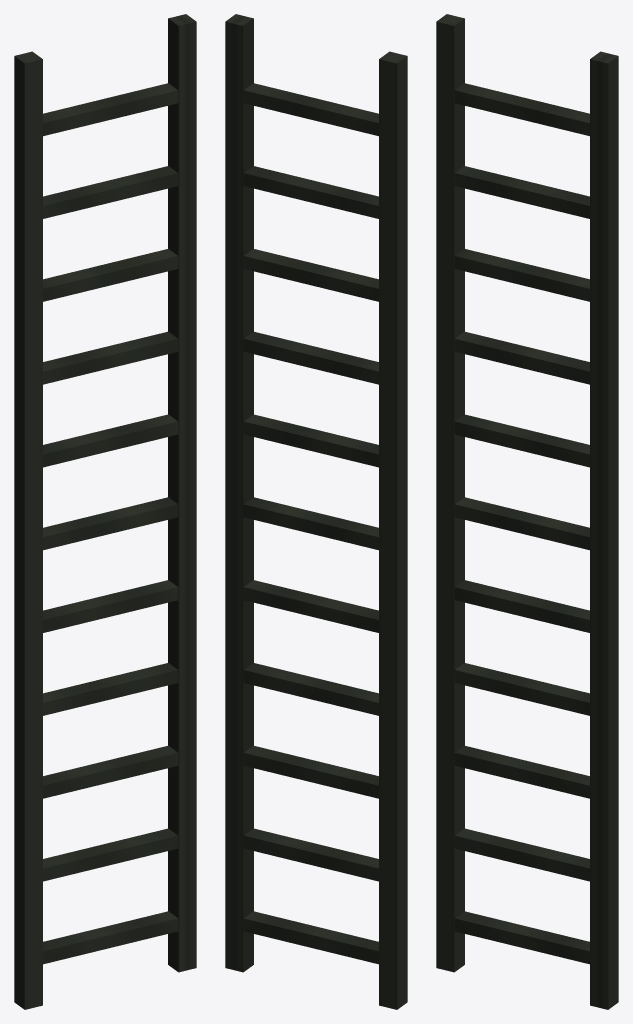
The model's file is env_ladder_metal_4m.glb.
3 views of the same model, side by side, from view 1: azimuth 30°, elevation 25°; view 2: azimuth 150°, elevation 25°; view 3: azimuth 330°, elevation 25° (orthographic).
Parts seen in each view (by area): view 1: env_ladder_metal_4m; view 2: env_ladder_metal_4m; view 3: env_ladder_metal_4m.
Boxes of the visible parts, bbox=[...] form: env_ladder_metal_4m: bbox=[14, 14, 196, 1009]; env_ladder_metal_4m: bbox=[225, 14, 407, 1009]; env_ladder_metal_4m: bbox=[436, 14, 618, 1009].
Size of the model in its own units: 0.76 by 4 by 0.08.
Materials: 1 (1 with a texture image).
